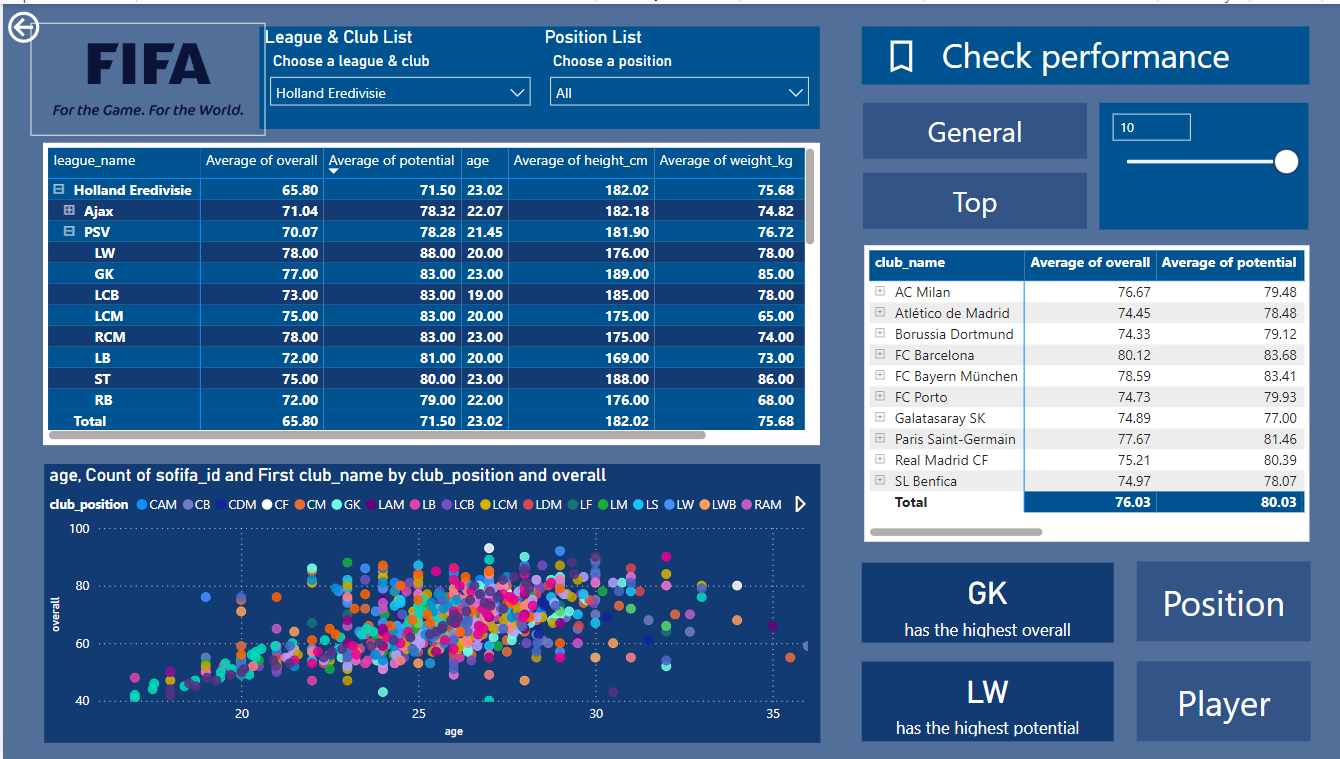

This screenshot's page, from the dashboard's own definition file:
{"tool":"powerbi","page":{"name":"physical","canvas":[1280,720],"ordinal":1},"visuals":[{"type":"textbox","box":[817.8,21.7,426.7,55.5],"z":0,"group":"g1"},{"type":"actionButton","title":"check performance Button","box":[835.6,29.9,391.4,40],"z":1000,"group":"g1"},{"type":"slicer","title":"League & Club List","fields":{"Values":["players_15.league_name","players_15.club_name"]},"box":[244.2,21.7,268.2,97.5],"z":1000},{"type":"pivotTable","fields":{"Rows":["players_15.league_name","players_15.club_name","players_15.club_position"],"Values":["Avg(players_15.overall)","Avg(players_15.potential)","Avg(players_15.age)","Avg(players_15.height_cm)","Avg(players_15.weight_kg)","players_15.bmi","Count(players_15.sofifa_id)"]},"box":[38.6,132.3,739.9,288],"z":2000},{"type":"scatterChart","fields":{"Series":["players_15.club_position"],"Y":["players_15.overall"],"X":["Avg(players_15.age)"]},"box":[39.6,437.5,739.6,265.5],"z":3000},{"type":"slicer","title":"Position List","fields":{"Values":["players_15.club_position"]},"box":[510.6,21.7,266.8,97.5],"z":4000},{"type":"image","box":[26.1,17.6,223.5,107],"z":5000},{"type":"actionButton","box":[0,2,100.7,39.5],"z":6000},{"type":"pivotTable","title":"top Table","fields":{"Rows":["players_15.club_name","players_15.club_position"],"Values":["Avg(players_15.overall)","Avg(players_15.potential)","Avg(players_15.age)","Avg(players_15.height_cm)","Avg(players_15.weight_kg)","players_15.bmi"]},"box":[820.1,230.1,424.4,282.5],"z":7000},{"type":"slicer","title":"para Slicer","fields":{"Values":["top club.top club"]},"box":[1043.7,93.7,199.5,120.5],"z":8000},{"type":"group","id":"g1","title":"check performance","box":[817.8,21.7,426.7,55.3],"z":9000},{"type":"actionButton","title":"General Button","box":[818.5,93.7,213.3,53.3],"z":10000},{"type":"actionButton","title":"Top Button","box":[818.5,160.8,213.3,53.3],"z":11000},{"type":"card","fields":{"Values":["Min(players_15.club_position)"]},"box":[818,531.5,240.1,76.2],"z":12000},{"type":"card","fields":{"Values":["Min(players_15.club_position)"]},"box":[816.4,625.9,241.8,76.2],"z":13000},{"type":"actionButton","box":[1079.6,531.5,165.6,76.2],"z":14000},{"type":"actionButton","box":[1079.6,625.9,165.6,76.2],"z":15000},{"type":"card","fields":{"Values":["Min(players_15.club_position)"]},"box":[817.4,532.3,240.1,76.2],"z":16000},{"type":"card","fields":{"Values":["Min(players_15.club_position)"]},"box":[818,625.9,240.1,76.2],"z":17000}]}

Visuals, with their boxes in screenshot pixels (x1, y1, x2, y2), scaled from the page's 1280x720 canvas onto the 1340x759 screenshot:
textbox: l=856, t=23, r=1303, b=81
"check performance Button" actionButton: l=875, t=32, r=1285, b=74
"League & Club List" slicer: l=256, t=23, r=536, b=126
pivotTable - players_15.league_name x players_15.club_name: l=40, t=139, r=815, b=443
scatterChart - players_15.club_position x players_15.overall: l=41, t=461, r=816, b=741
"Position List" slicer: l=535, t=23, r=814, b=126
image: l=27, t=19, r=261, b=131
actionButton: l=0, t=2, r=105, b=44
"top Table" pivotTable: l=859, t=243, r=1303, b=540
"para Slicer" slicer: l=1093, t=99, r=1301, b=226
"check performance" group: l=856, t=23, r=1303, b=81
"General Button" actionButton: l=857, t=99, r=1080, b=155
"Top Button" actionButton: l=857, t=170, r=1080, b=226
card - Min(players_15.club_position): l=856, t=560, r=1108, b=641
card - Min(players_15.club_position): l=855, t=660, r=1108, b=740
actionButton: l=1130, t=560, r=1304, b=641
actionButton: l=1130, t=660, r=1304, b=740
card - Min(players_15.club_position): l=856, t=561, r=1107, b=641
card - Min(players_15.club_position): l=856, t=660, r=1108, b=740
